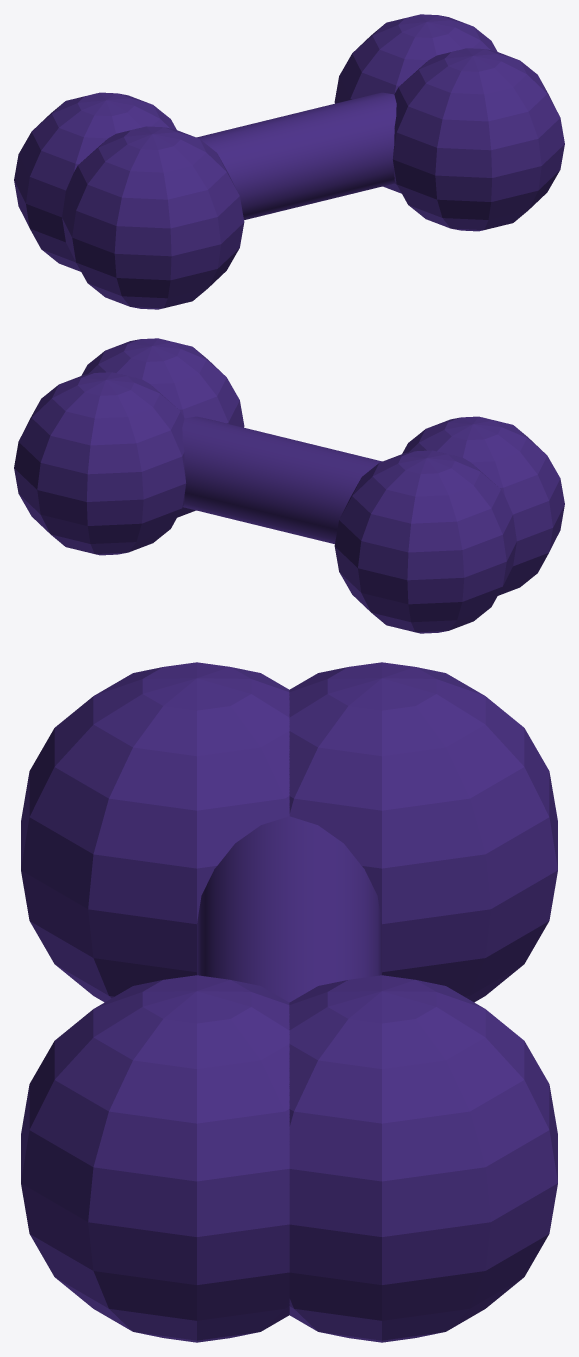
File: Bone.fbx
3 renders of one model, top to bottom at view 1: azimuth 30°, elevation 25°; view 2: azimuth 150°, elevation 25°; view 3: azimuth 270°, elevation 25°, orthographic. The views are drawn at different scales.
Visible parts, largest first — view 1: pCylinder2; view 2: pCylinder2; view 3: pCylinder2.
Part boxes in pixels (box(x1,y1,x2,y2)): pCylinder2: box(14, 14, 564, 309); pCylinder2: box(14, 338, 564, 633); pCylinder2: box(21, 662, 557, 1342).
Bounding box in the file's own units: 6 × 2 × 2.9.
